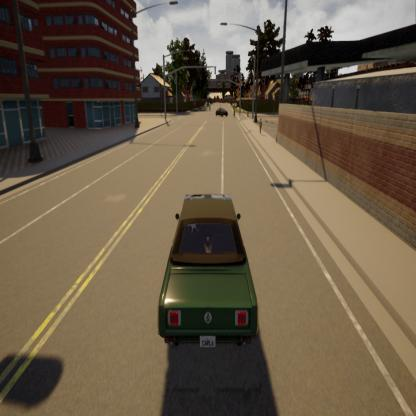Cars: (147, 184, 266, 352), (214, 106, 230, 119)
Pedestrian: (258, 115, 266, 136)
